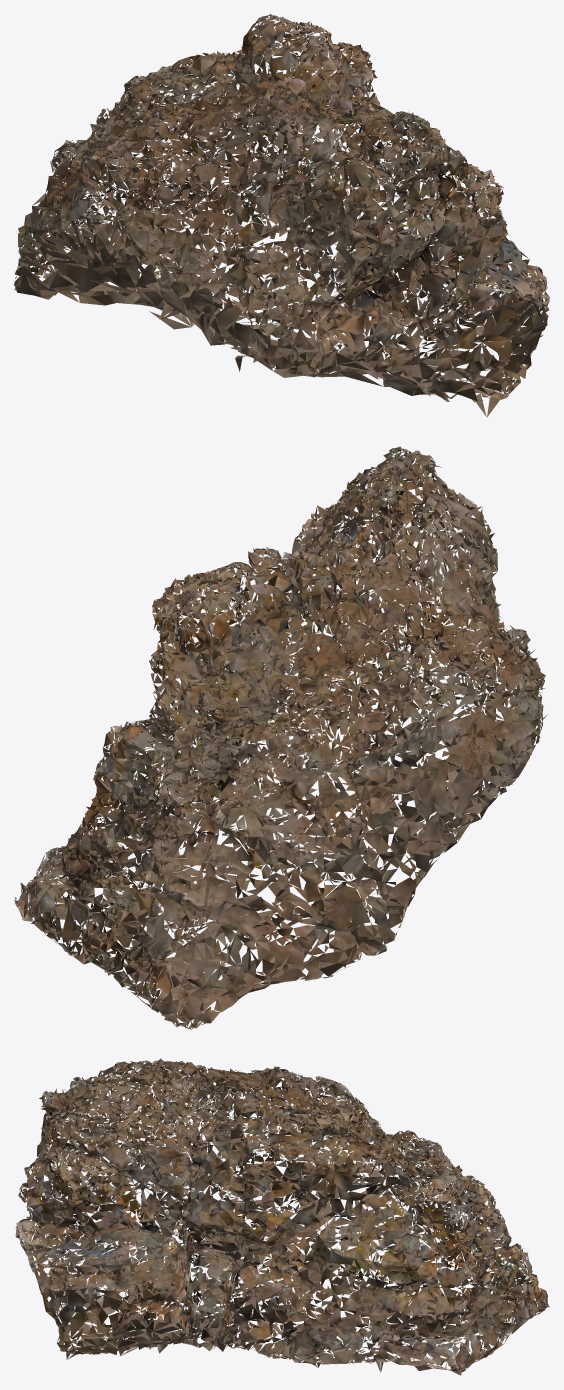
The model's file is ph_boulder_01.glb.
The picture shows the model from 3 angles, top to bottom: view 1: azimuth 30°, elevation 25°; view 2: azimuth 150°, elevation 25°; view 3: azimuth 270°, elevation 25°; orthographic projection. The views are drawn at different scales.
Parts seen in each view (by area): view 1: boulder_01; view 2: boulder_01; view 3: boulder_01.
Part boxes in pixels (x1,y1,x2,y2): boulder_01: (14,14,549,417); boulder_01: (14,446,547,1029); boulder_01: (15,1058,549,1375).
Bounding box in the file's own units: 1.28 × 1.01 × 1.84.
Materials: 1 (1 with a texture image).
